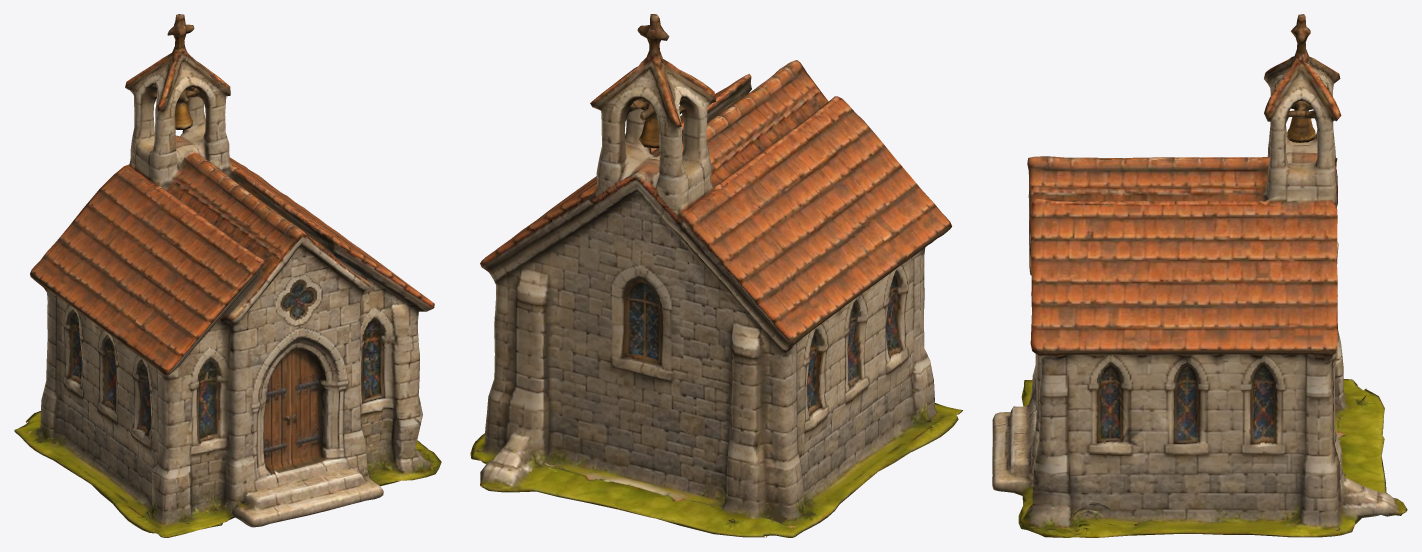
3 renders of one model, left to right at view 1: azimuth 30°, elevation 25°; view 2: azimuth 150°, elevation 25°; view 3: azimuth 270°, elevation 25°, orthographic. The views are drawn at different scales.
Parts seen in each view (by area): view 1: tripo_node_f6d6579d-60a9-4b8d-902c-7046a50f4b5d; view 2: tripo_node_f6d6579d-60a9-4b8d-902c-7046a50f4b5d; view 3: tripo_node_f6d6579d-60a9-4b8d-902c-7046a50f4b5d.
Part boxes in pixels (left/top/right/bottom): tripo_node_f6d6579d-60a9-4b8d-902c-7046a50f4b5d: left=14, top=14, right=441, bottom=537; tripo_node_f6d6579d-60a9-4b8d-902c-7046a50f4b5d: left=470, top=14, right=962, bottom=537; tripo_node_f6d6579d-60a9-4b8d-902c-7046a50f4b5d: left=992, top=14, right=1407, bottom=537.
Bounding box in the file's own units: 0.7644 × 0.9774 × 0.8286.
Materials: 1 (1 with a texture image).
